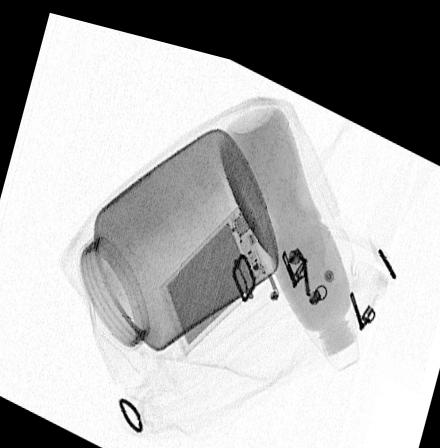Powerbank: (157, 191, 265, 347)
